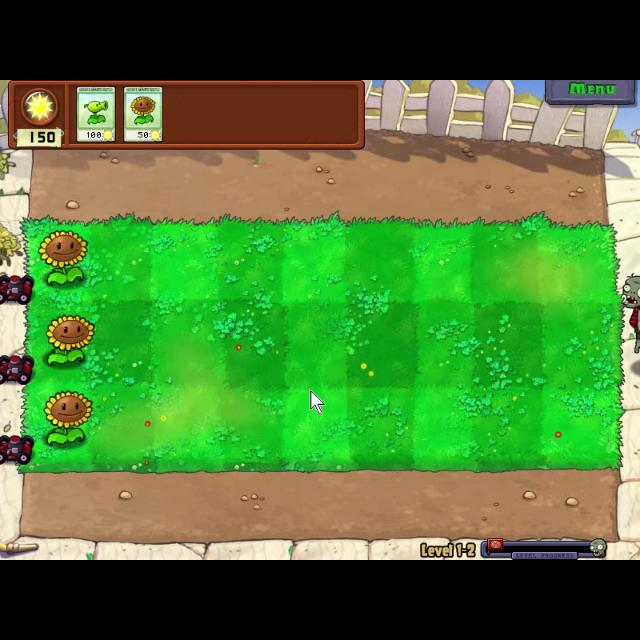Garden: (18, 213, 630, 475)
Menu Button: (542, 80, 638, 104)
Mower: (0, 269, 38, 309), (0, 429, 38, 467), (1, 350, 36, 388)
Peashooter: (75, 84, 117, 144)
Seed Panel: (5, 80, 369, 152)
Sunflower: (122, 86, 164, 142)
Sunflower Seed: (34, 228, 92, 288), (42, 310, 98, 372), (40, 386, 96, 448)
Zombie: (620, 274, 640, 358)
